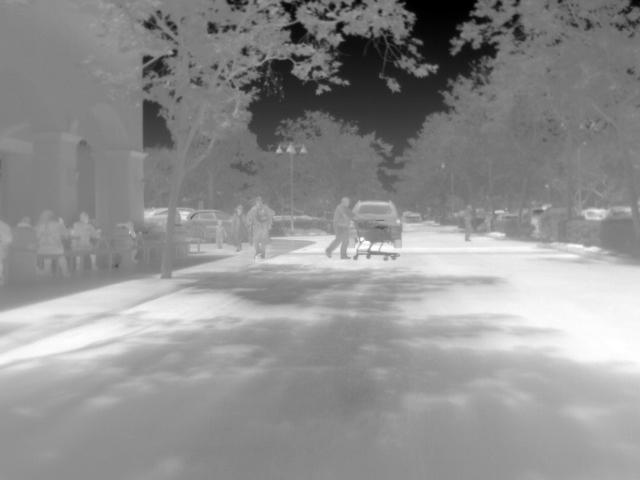car: (540, 204, 587, 241), (188, 208, 229, 243), (352, 200, 399, 224), (408, 213, 424, 224)
person: (38, 209, 70, 274), (247, 194, 275, 262), (68, 210, 100, 269), (325, 196, 354, 259), (118, 221, 142, 264), (229, 202, 248, 252), (13, 217, 37, 254), (463, 202, 478, 240), (214, 218, 231, 250)
